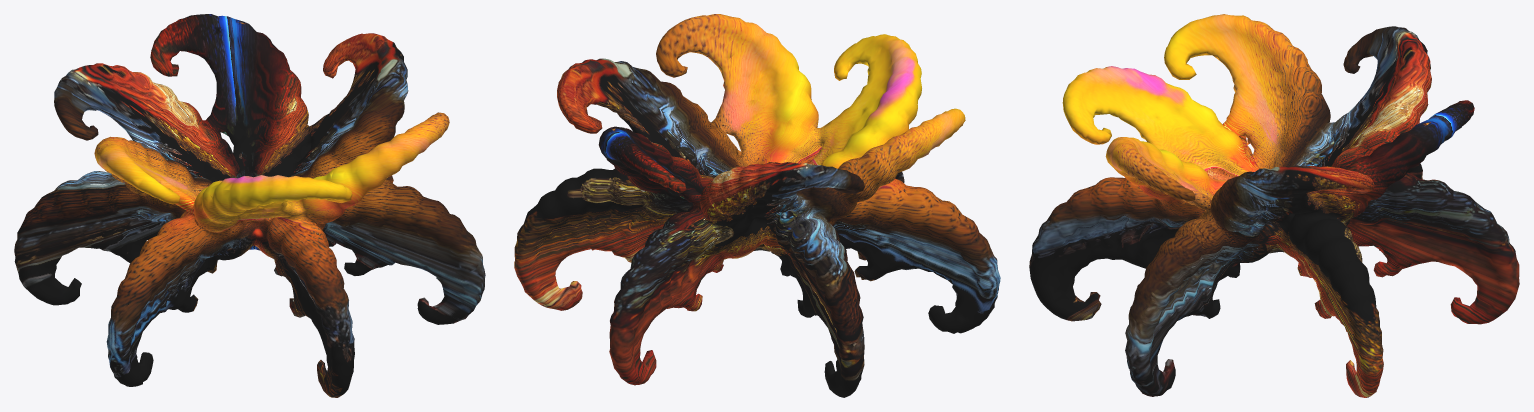
Rendered from alien_fractal.glb.
3 views of the same model, side by side, from view 1: azimuth 30°, elevation 25°; view 2: azimuth 150°, elevation 25°; view 3: azimuth 270°, elevation 25° (orthographic). The views are drawn at different scales.
Visible parts, largest first — view 1: Object_4; view 2: Object_4; view 3: Object_4.
Part boxes in pixels (x1,y1,x2,y2): Object_4: [14, 14, 485, 397]; Object_4: [514, 14, 1000, 397]; Object_4: [1029, 14, 1519, 397].
Size of the model in its own units: 1.63 by 0.9662 by 1.77.
1 material, 1 textured.
